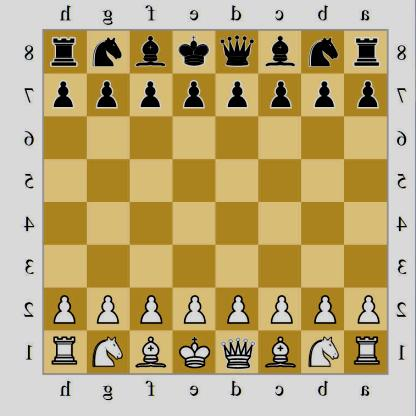black-bishop: (132, 31, 168, 71), (262, 31, 297, 71)
black-king: (176, 29, 210, 68)
black-knight: (302, 32, 342, 70), (87, 32, 125, 71)
black-pawn: (132, 73, 167, 113), (88, 74, 122, 114), (46, 74, 82, 110), (349, 76, 383, 112), (220, 77, 254, 111), (177, 76, 207, 113), (264, 78, 295, 112), (310, 78, 339, 111)
black-queen: (216, 31, 257, 70)
black-rook: (48, 31, 80, 71), (351, 33, 380, 69)
white-bishop: (133, 331, 167, 374), (263, 333, 297, 372)
white-king: (175, 331, 213, 372)
white-knight: (304, 332, 342, 370), (87, 336, 125, 369)
white-pawn: (44, 290, 81, 330), (134, 290, 168, 329), (220, 292, 253, 328), (350, 291, 382, 327), (91, 291, 122, 328), (178, 290, 209, 327), (308, 289, 338, 327), (265, 291, 294, 328)
white-queen: (216, 331, 258, 372)
white-rook: (46, 331, 81, 370), (348, 331, 383, 369)
